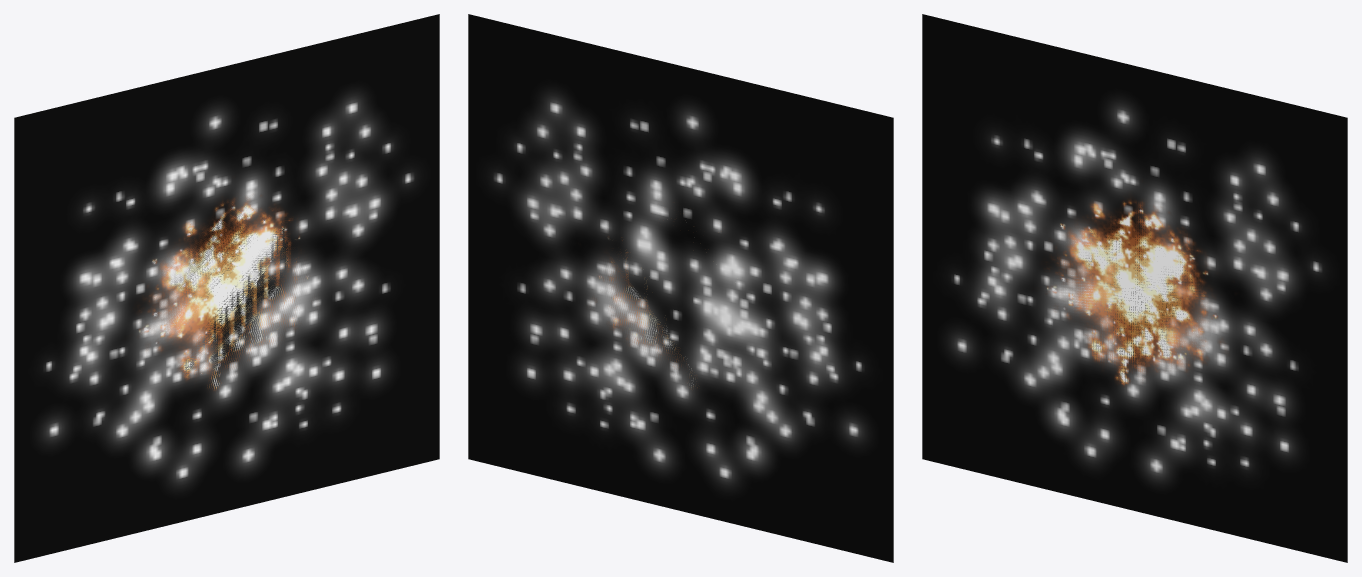
File: si_eeb_0200.glb
3 renders of one model, left to right at view 1: azimuth 30°, elevation 25°; view 2: azimuth 150°, elevation 25°; view 3: azimuth 330°, elevation 25°, orthographic.
Visible parts, largest first — view 1: layer_00_si_est_0200, layer_01_si_est_0300; view 2: layer_00_si_est_0200, layer_01_si_est_0300; view 3: layer_00_si_est_0200, layer_01_si_est_0300.
Part boxes in pixels (x1=…): layer_00_si_est_0200: x1=14, y1=14, x2=439, y2=562; layer_01_si_est_0300: x1=138, y1=195, x2=308, y2=390; layer_00_si_est_0200: x1=468, y1=14, x2=893, y2=562; layer_01_si_est_0300: x1=594, y1=238, x2=693, y2=387; layer_00_si_est_0200: x1=922, y1=14, x2=1347, y2=562; layer_01_si_est_0300: x1=1044, y1=197, x2=1224, y2=386.
Bounding box in the file's own units: 20 × 20 × 1.51e-06.
Materials: 2 (2 with a texture image).
